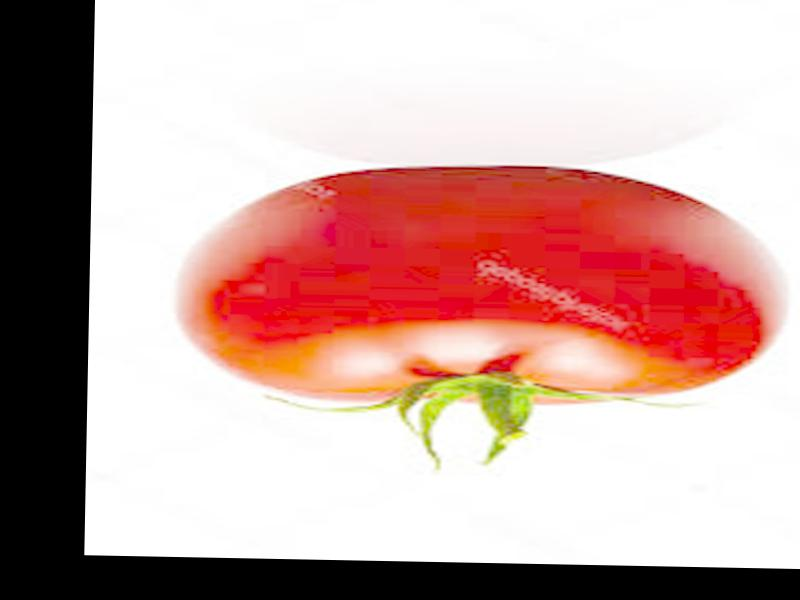Tomato: (170, 160, 791, 409)
